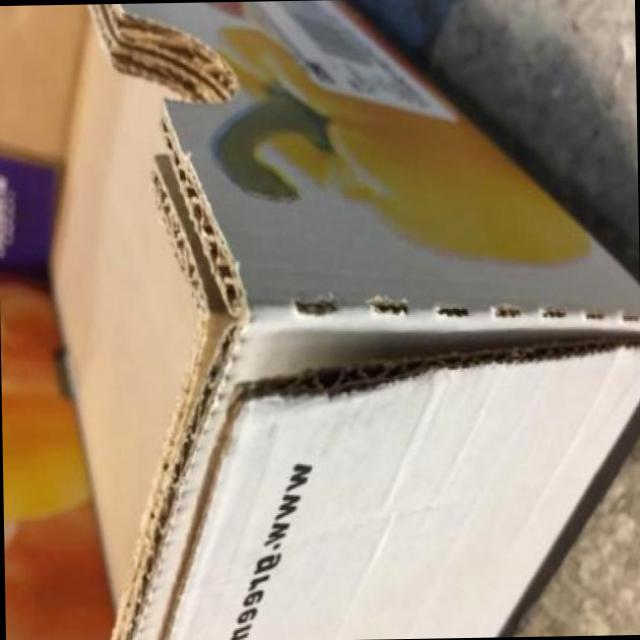cardboard paper: (52, 0, 640, 640)
